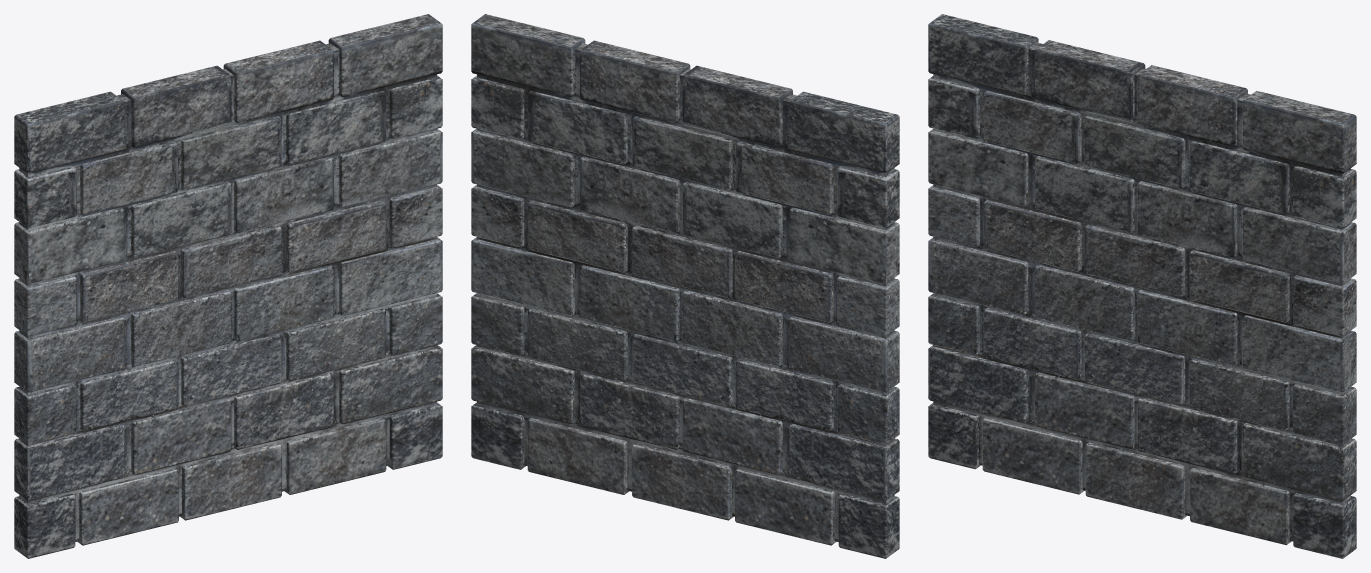
The model's file is WallBrickA.fbx.
The picture shows the model from 3 angles, left to right: view 1: azimuth 30°, elevation 25°; view 2: azimuth 150°, elevation 25°; view 3: azimuth 330°, elevation 25°; orthographic projection.
Visible parts, largest first — view 1: WallBrickA; view 2: WallBrickA; view 3: WallBrickA.
Part boxes in pixels (x1,y1,x2,y2): WallBrickA: [14, 14, 442, 558]; WallBrickA: [471, 14, 899, 558]; WallBrickA: [928, 14, 1356, 558].
Bounding box in the file's own units: 374 × 374 × 22.
